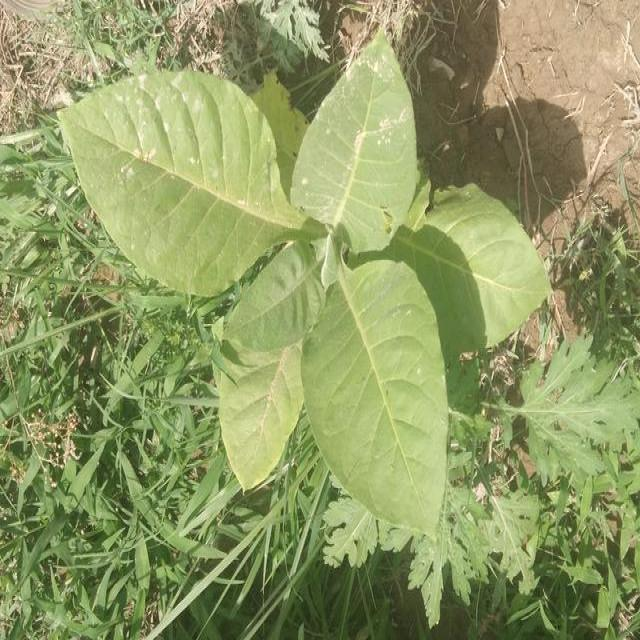crop: (61, 32, 559, 541)
